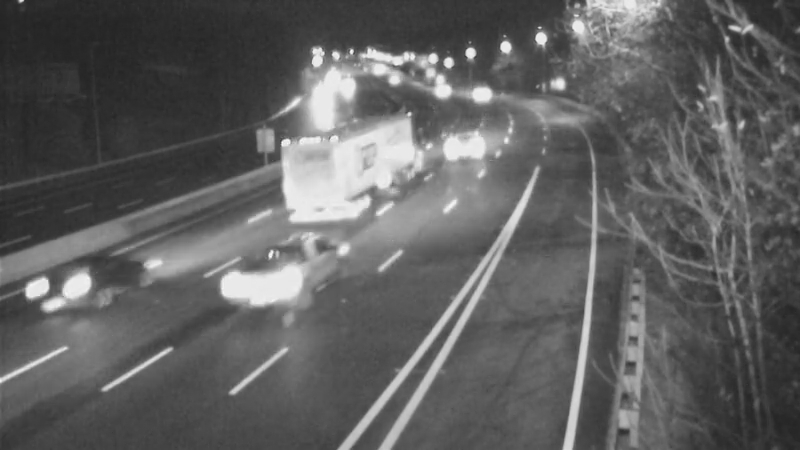vehicle: (290, 125, 370, 205), (232, 236, 312, 316), (27, 241, 107, 321), (417, 64, 467, 114), (452, 66, 502, 116), (439, 113, 489, 163), (295, 74, 345, 124)
